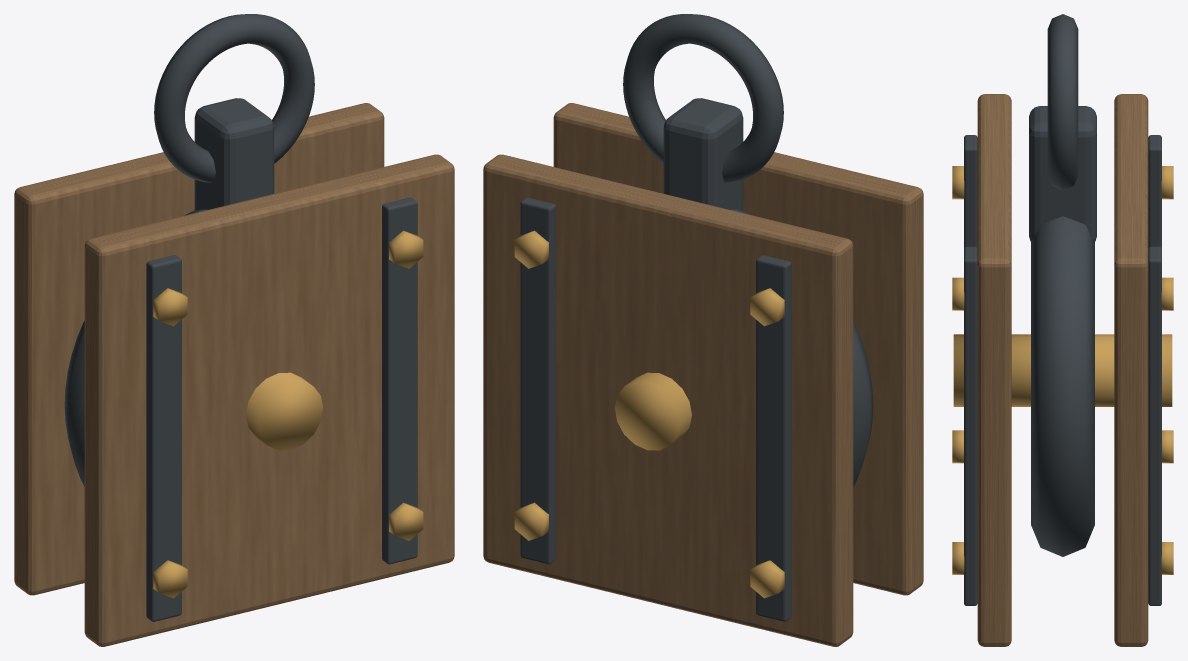
The model's file is pulley.gltf.
3 views of the same model, side by side, from view 1: azimuth 30°, elevation 25°; view 2: azimuth 150°, elevation 25°; view 3: azimuth 270°, elevation 25° (orthographic). The views are drawn at different scales.
Parts seen in each view (by area): view 1: pulley; view 2: pulley; view 3: pulley.
Part boxes in pixels (box(x1,y1,x2,y2)): pulley: box(14, 14, 454, 646); pulley: box(483, 14, 923, 646); pulley: box(952, 14, 1173, 646).
Size of the model in its own units: 0.88 by 1.31 by 0.486.
3 materials, 1 textured.
